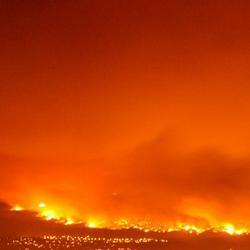fire: (11, 204, 106, 231), (156, 224, 242, 235)
